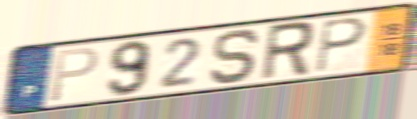2: (156, 36, 206, 91)
9: (103, 38, 153, 99)
P: (314, 16, 370, 76), (47, 45, 101, 105)
R: (257, 19, 317, 84)
S: (207, 27, 263, 86)
